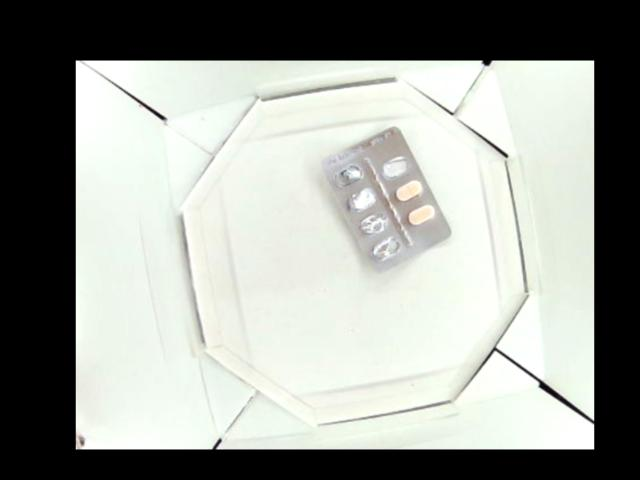Medicine: (319, 123, 450, 267)
